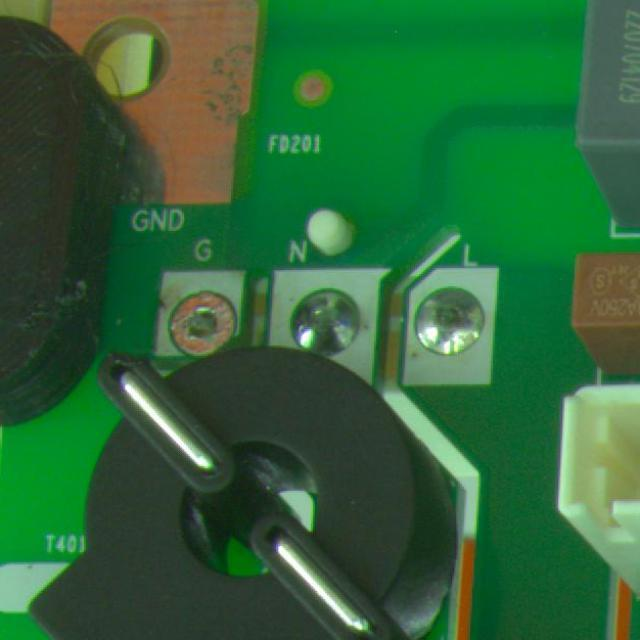Insufficient solder: (158, 289, 229, 370)
